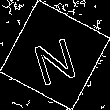N_N: (28, 25, 82, 85)
